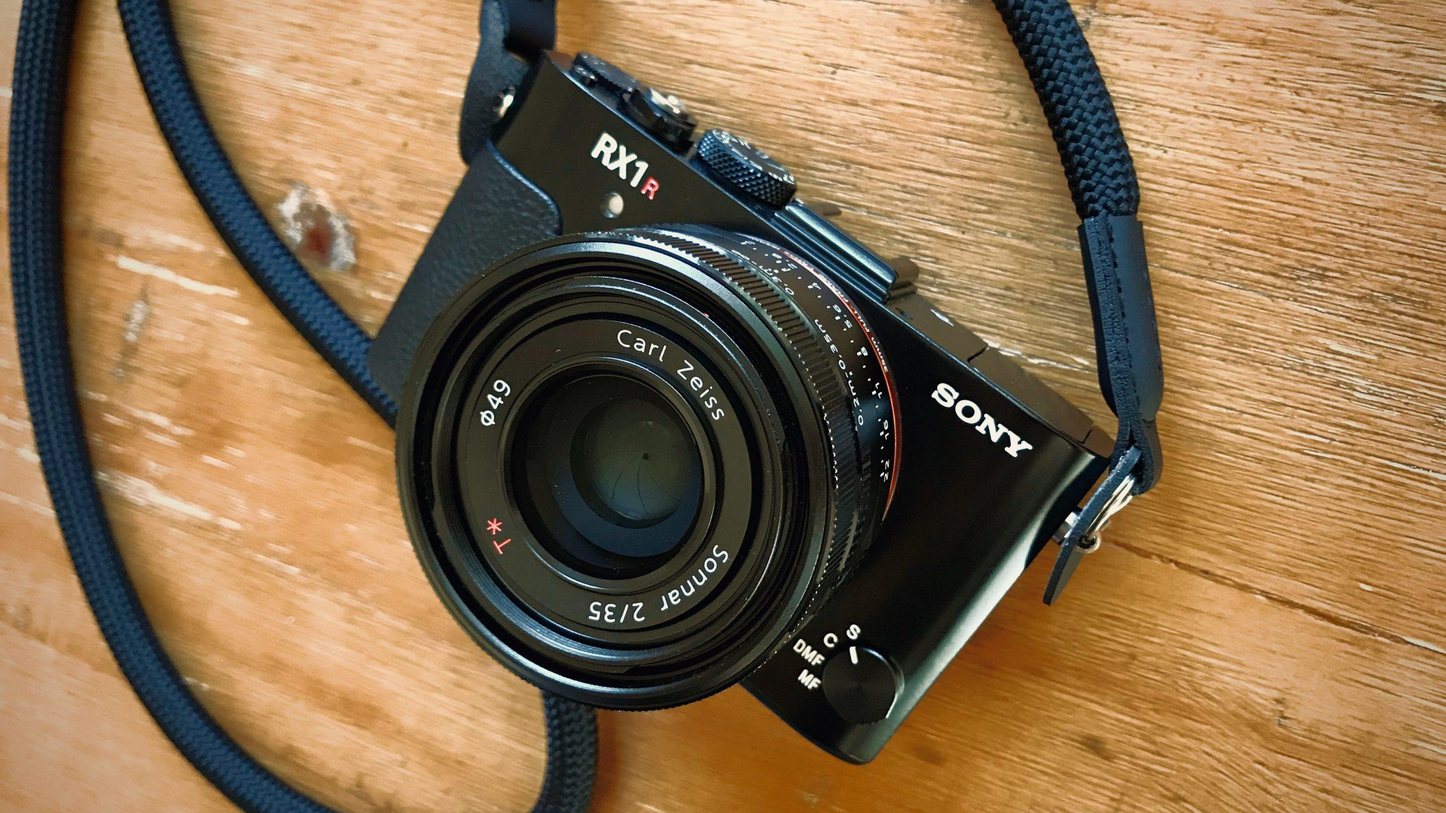degital-camera: (366, 45, 1164, 754)
